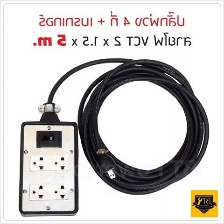three_eye_plug: (18, 119, 80, 217)
